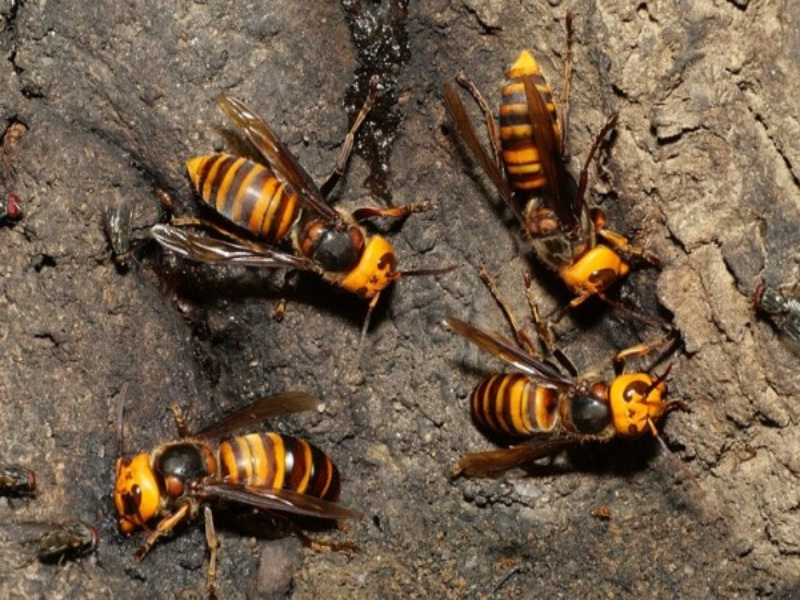asian_giant_hornet: (485, 48, 632, 308), (184, 146, 408, 314), (109, 424, 347, 542), (465, 362, 677, 447)
